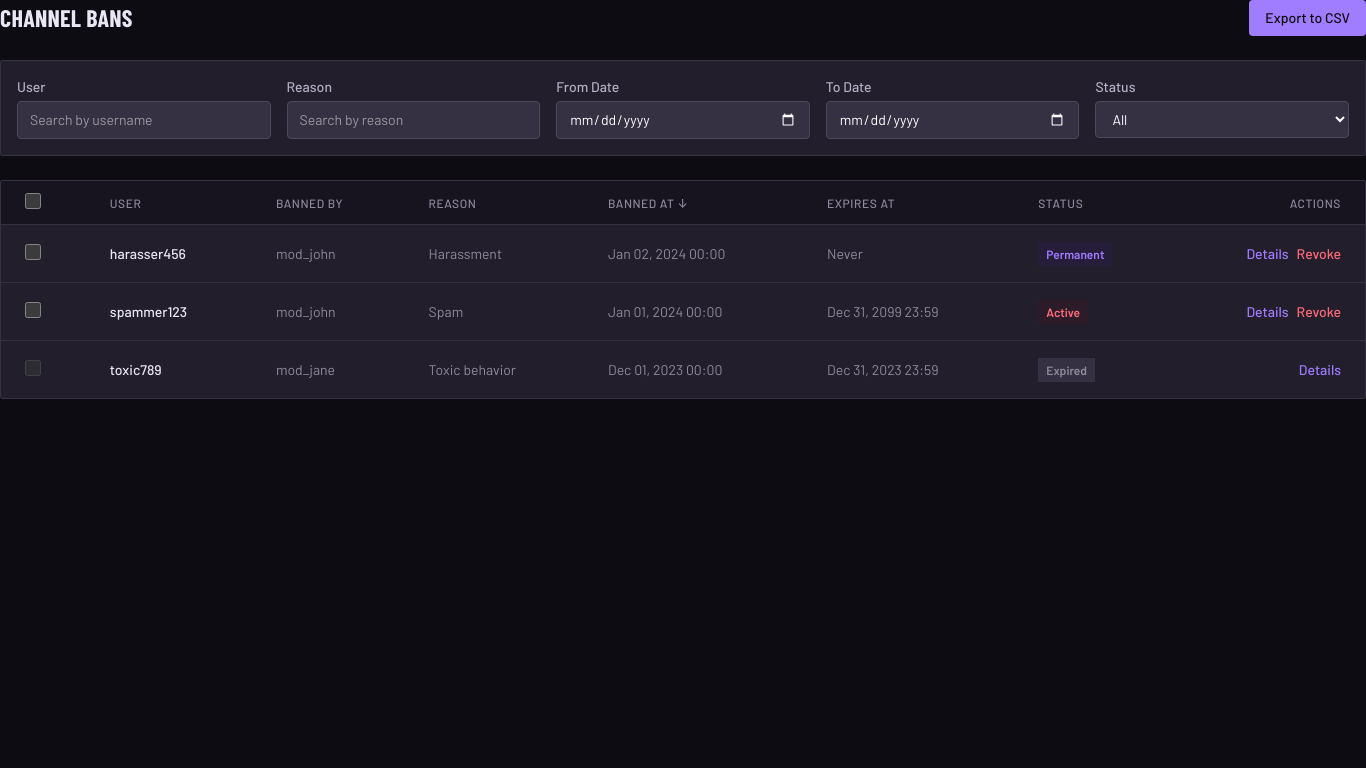
Test: BanListViewer › Revoke Ban › handles error when revoking a ban fails
The width and height of the screenshot is (1366, 768).
Expected: the text "spammer123" is shown, x1=86 y1=282 x2=252 y2=340
Note: Click revoke button
Click the button "Revoke" in the row of "harasser456": (1319, 254) x1=1297 y1=244 x2=1341 y2=264
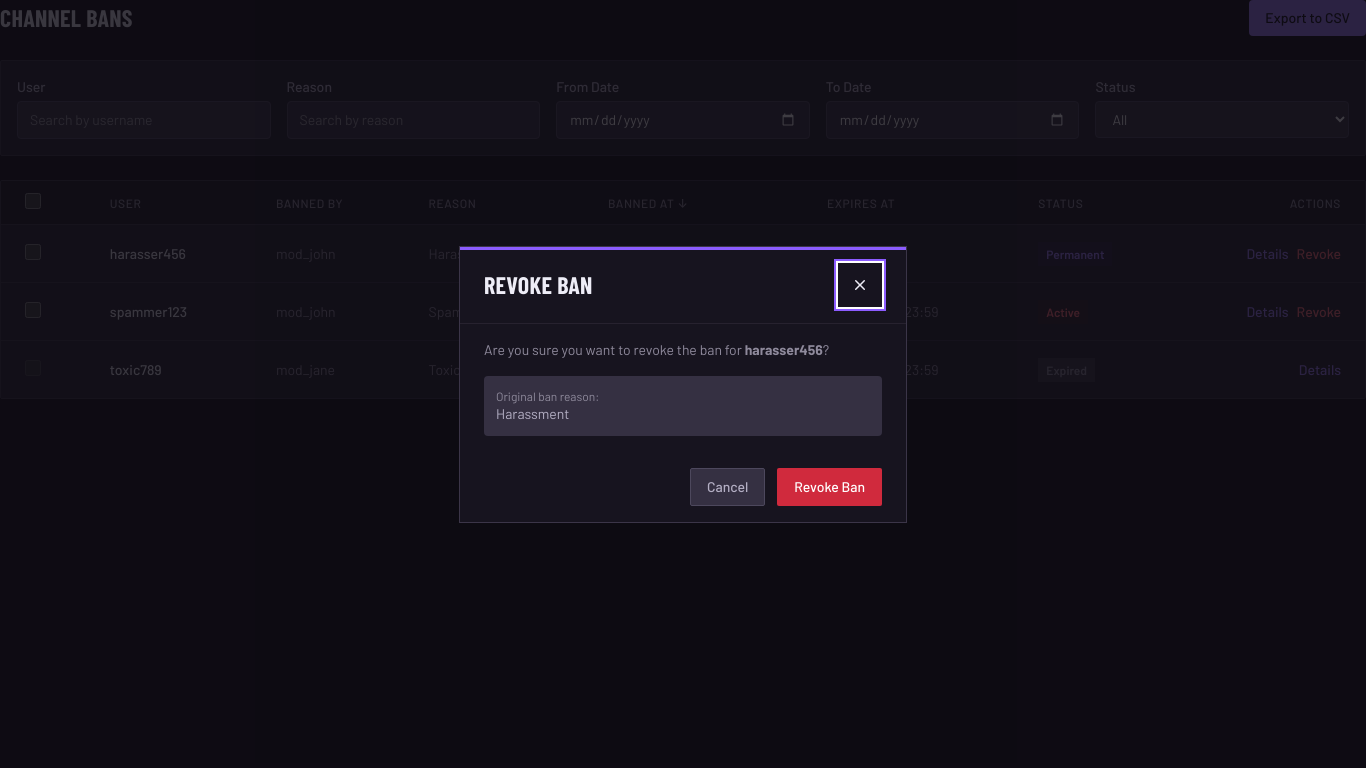
Click the button "Revoke Ban": (830, 486) x1=777 y1=468 x2=882 y2=506
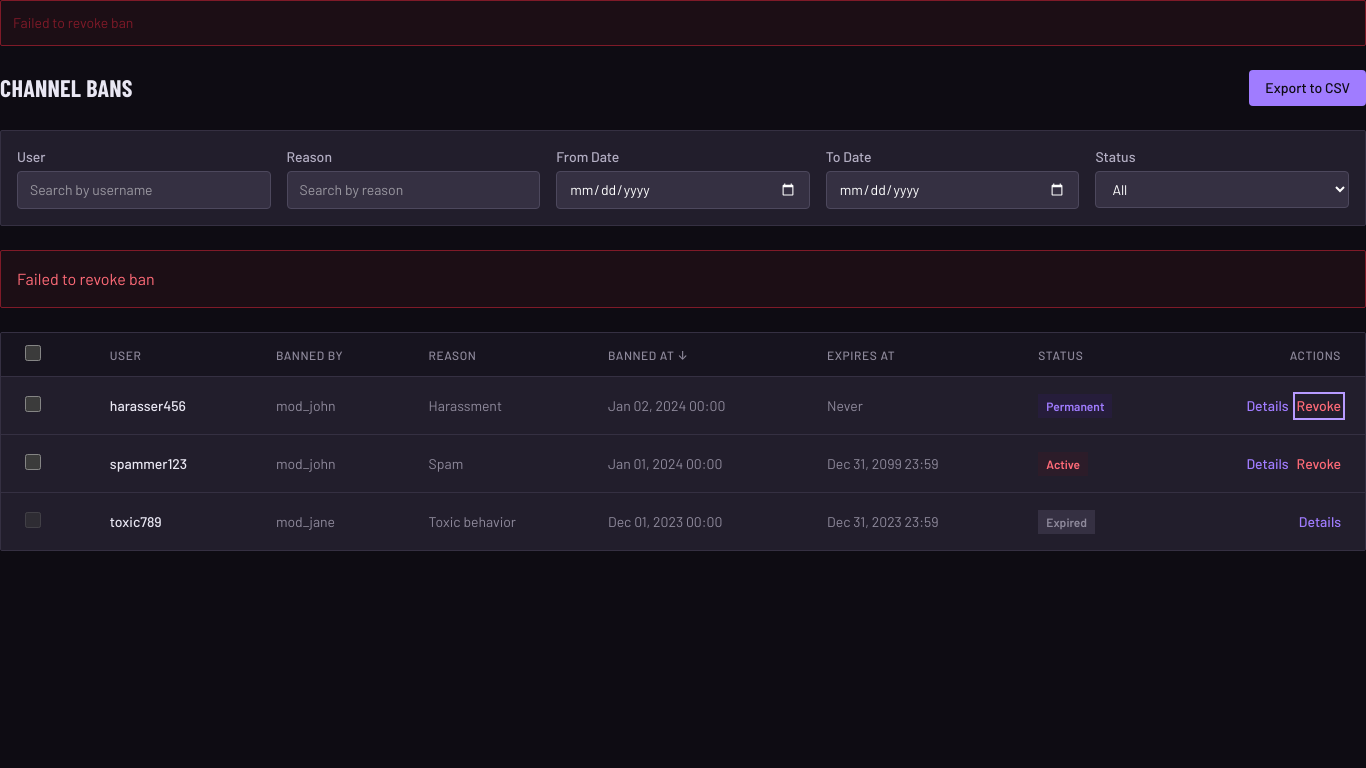
Result: the 1st text "Failed to revoke ban" is shown at x1=0 y1=0 x2=1365 y2=46
Result: the dialog is gone
